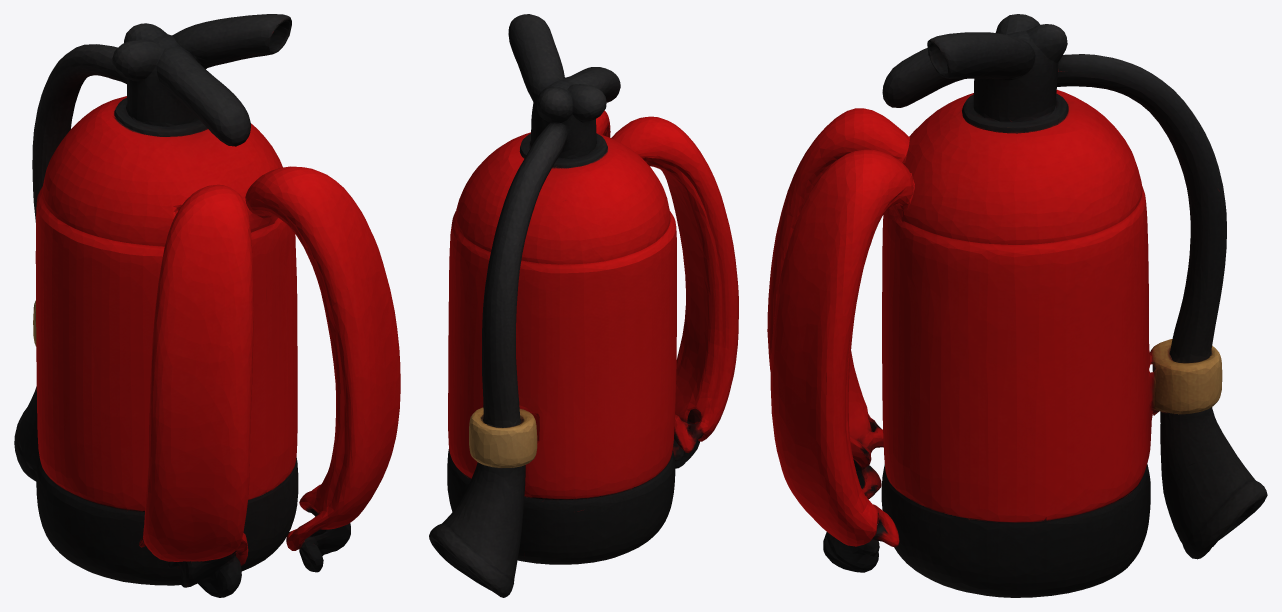
Rendered from fire-boy-extinguisher-backpack-sam.glb.
3 renders of one model, left to right at view 1: azimuth 30°, elevation 25°; view 2: azimuth 150°, elevation 25°; view 3: azimuth 270°, elevation 25°, orthographic. The views are drawn at different scales.
Parts seen in each view (by area): view 1: world; view 2: world; view 3: world.
Boxes of the visible parts, bbox=[...] form: world: bbox=[14, 14, 400, 597]; world: bbox=[429, 14, 738, 597]; world: bbox=[767, 14, 1267, 597].
Size of the model in its own units: 0.495 by 1 by 0.8162.
Materials: 1 (1 with a texture image).
